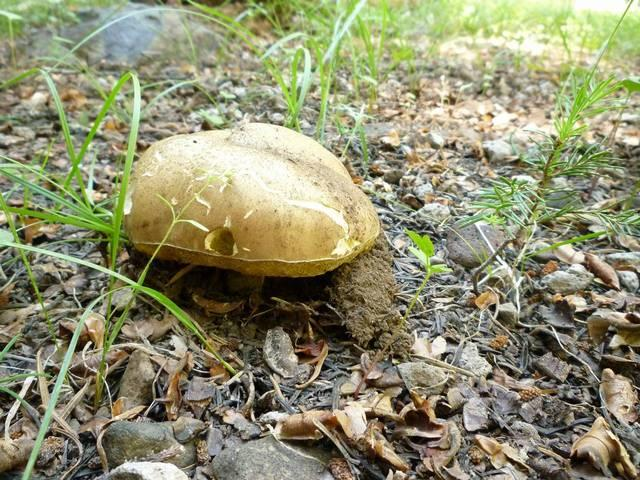edible_mushroom: (121, 120, 410, 355)
